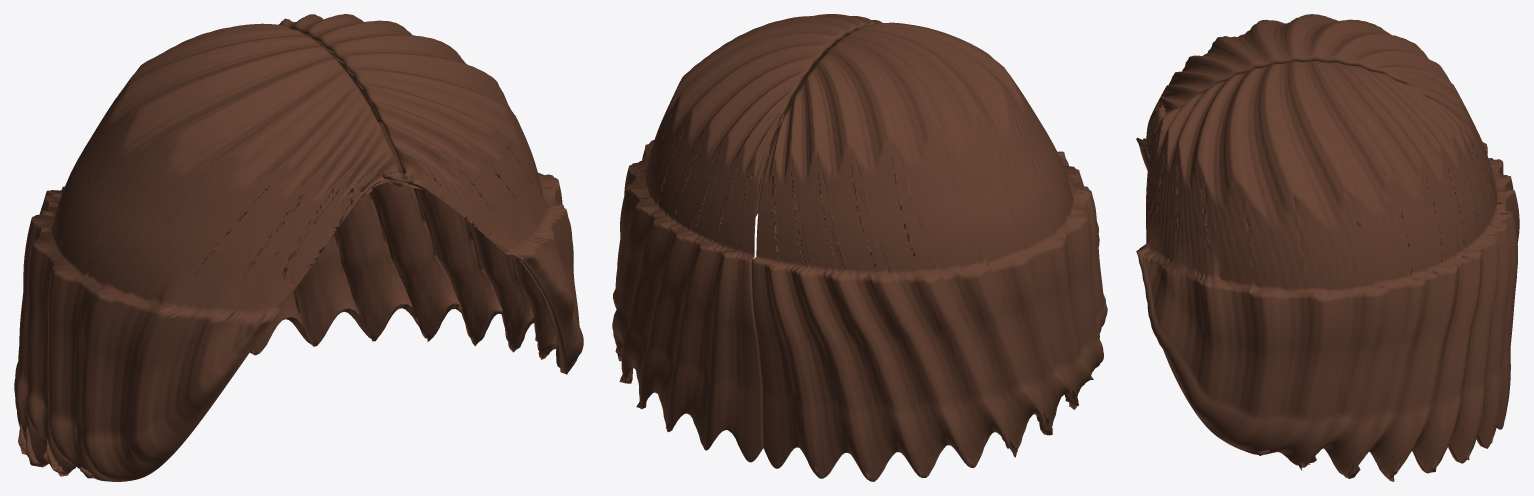
Rendered from Masculine-flow-beanie252-hair.glb.
3 renders of one model, left to right at view 1: azimuth 30°, elevation 25°; view 2: azimuth 150°, elevation 25°; view 3: azimuth 270°, elevation 25°, orthographic. The views are drawn at different scales.
Visible parts, largest first — view 1: 226 hair / Hair252 / flowing sculpt flow.001; view 2: 226 hair / Hair252 / flowing sculpt flow.001; view 3: 226 hair / Hair252 / flowing sculpt flow.001.
Boxes of the visible parts, box(x1,y1,x2,y2) form: 226 hair / Hair252 / flowing sculpt flow.001: box(14, 14, 583, 481); 226 hair / Hair252 / flowing sculpt flow.001: box(612, 14, 1107, 481); 226 hair / Hair252 / flowing sculpt flow.001: box(1136, 14, 1519, 481).
Bounding box in the file's own units: 1.11 × 0.8603 × 0.8343.
